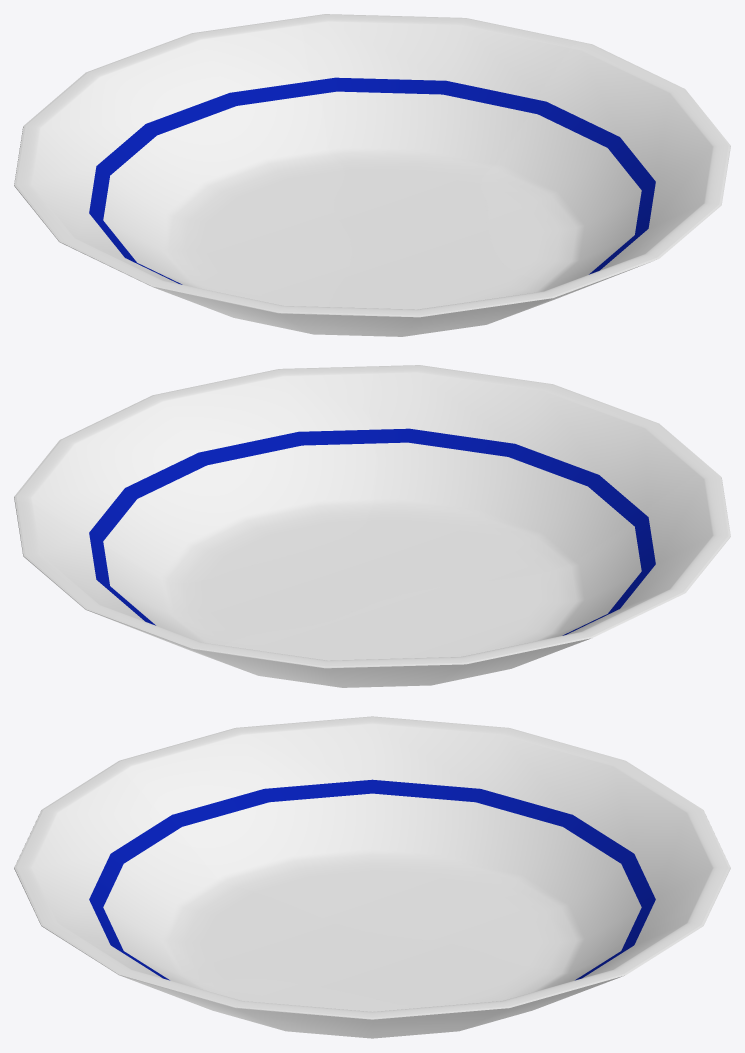
The model's file is flat_plate.glb.
3 renders of one model, top to bottom at view 1: azimuth 30°, elevation 25°; view 2: azimuth 150°, elevation 25°; view 3: azimuth 270°, elevation 25°, orthographic.
Parts seen in each view (by area): view 1: flat_plate; view 2: flat_plate; view 3: flat_plate.
Part boxes in pixels (x1=…): flat_plate: x1=14, y1=14, x2=730, y2=336; flat_plate: x1=14, y1=365, x2=730, y2=687; flat_plate: x1=14, y1=716, x2=730, y2=1038.
Size of the model in its own units: 0.1594 by 0.02 by 0.1594.
2 materials, 2 textured.
